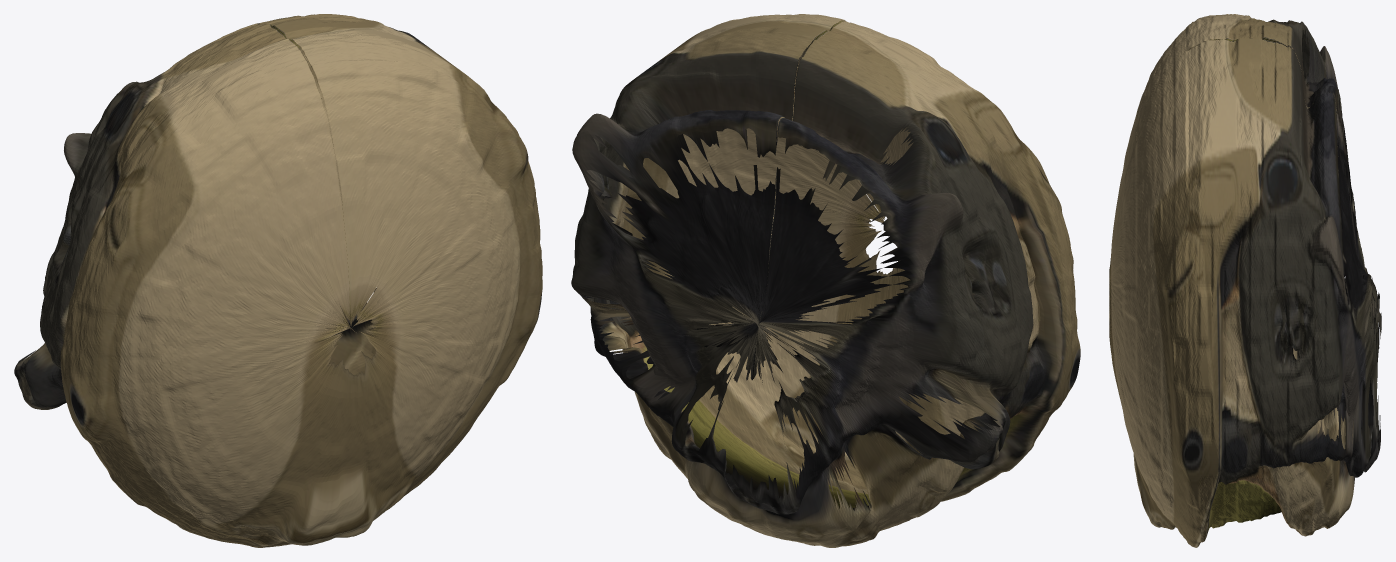
The picture shows the model from 3 angles, left to right: view 1: azimuth 30°, elevation 25°; view 2: azimuth 150°, elevation 25°; view 3: azimuth 270°, elevation 25°; orthographic projection.
Parts seen in each view (by area): view 1: geometry_0; view 2: geometry_0; view 3: geometry_0.
Part boxes in pixels (bbox=[...]): geometry_0: bbox=[14, 14, 542, 547]; geometry_0: bbox=[571, 14, 1080, 547]; geometry_0: bbox=[1109, 14, 1381, 547].
Bounding box in the file's own units: 1.99 × 1.98 × 1.01.
1 material, 1 textured.
